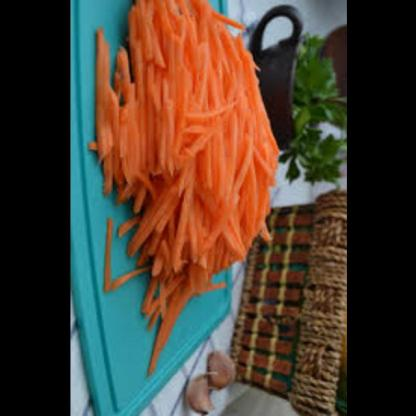carrot: (102, 0, 288, 320)
